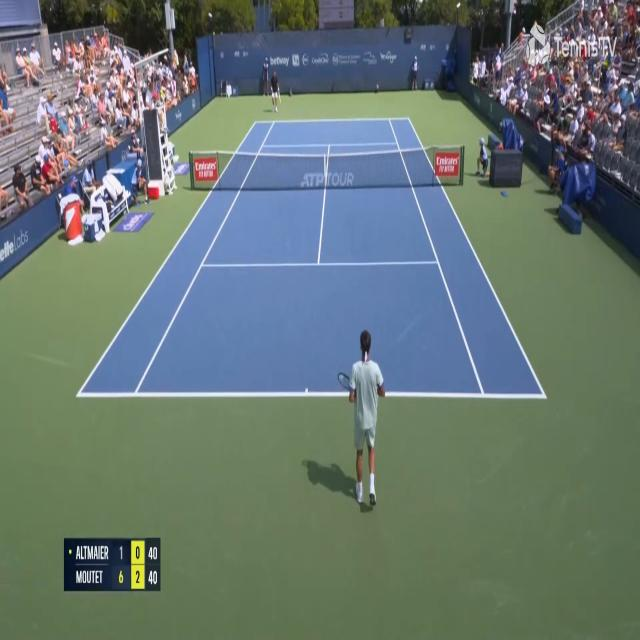tennis-player: (337, 323, 386, 508), (260, 59, 280, 112)
